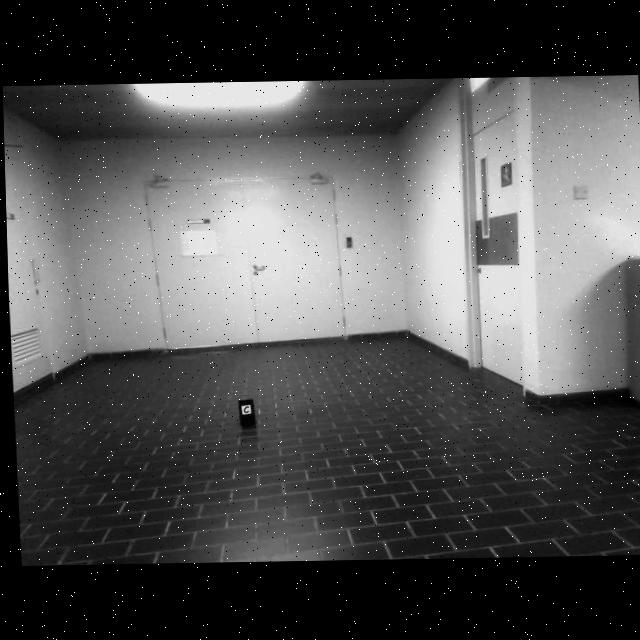C: (240, 404, 247, 414)
